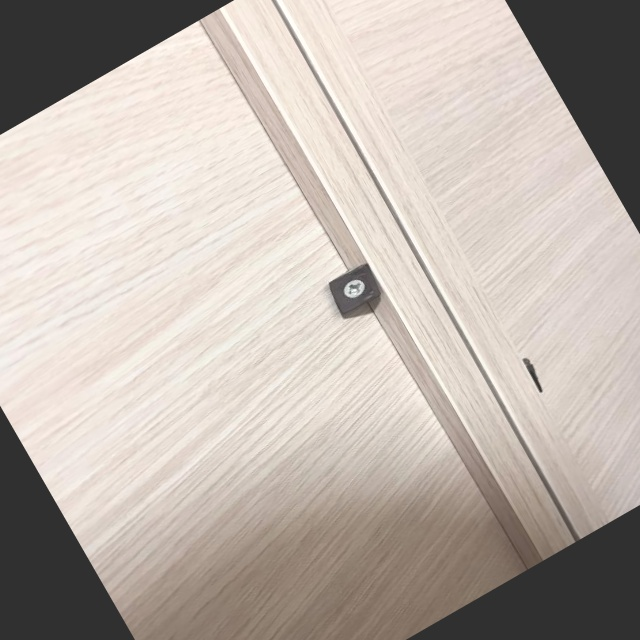pozidriv: (340, 276, 369, 302)
